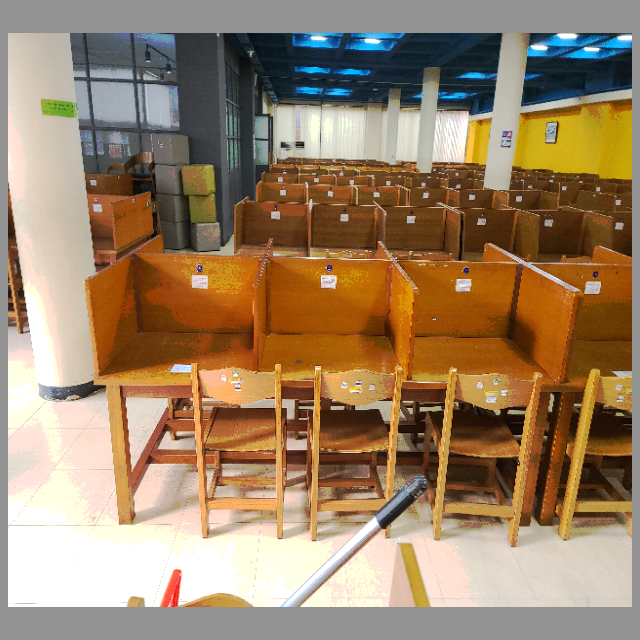empty: (415, 208, 565, 461), (99, 234, 259, 467), (262, 218, 408, 439)
